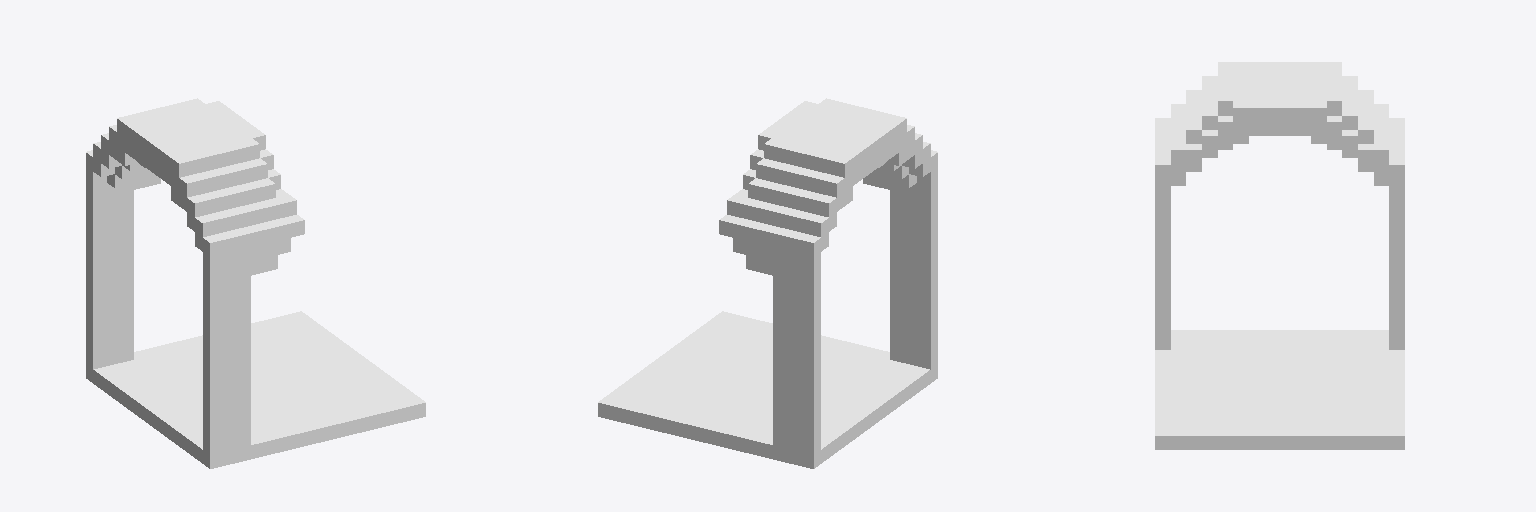
The model's file is church-1-cata_walldoor.obj.
3 renders of one model, left to right at view 1: azimuth 30°, elevation 25°; view 2: azimuth 150°, elevation 25°; view 3: azimuth 270°, elevation 25°, orthographic.
Parts seen in each view (by area): view 1: cata_walldoor; view 2: cata_walldoor; view 3: cata_walldoor.
Part boxes in pixels (x1,y1,x2,y2): cata_walldoor: (86,98,425,468); cata_walldoor: (598,98,937,468); cata_walldoor: (1155,62,1404,449).
Size of the model in its own units: 1.6 by 2 by 1.6.